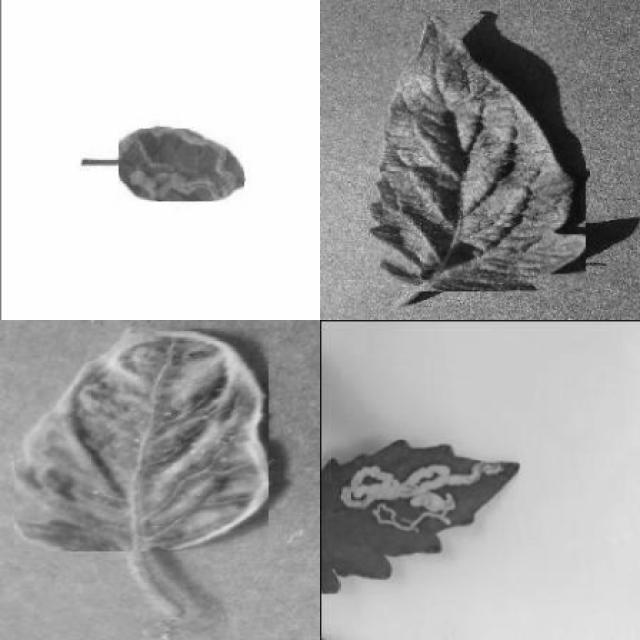Leaf Miner: (320, 437, 519, 594), (119, 128, 245, 202)
Spider Mites: (367, 15, 586, 292)
Yellow Leaf Curl Virus: (14, 328, 269, 552)
